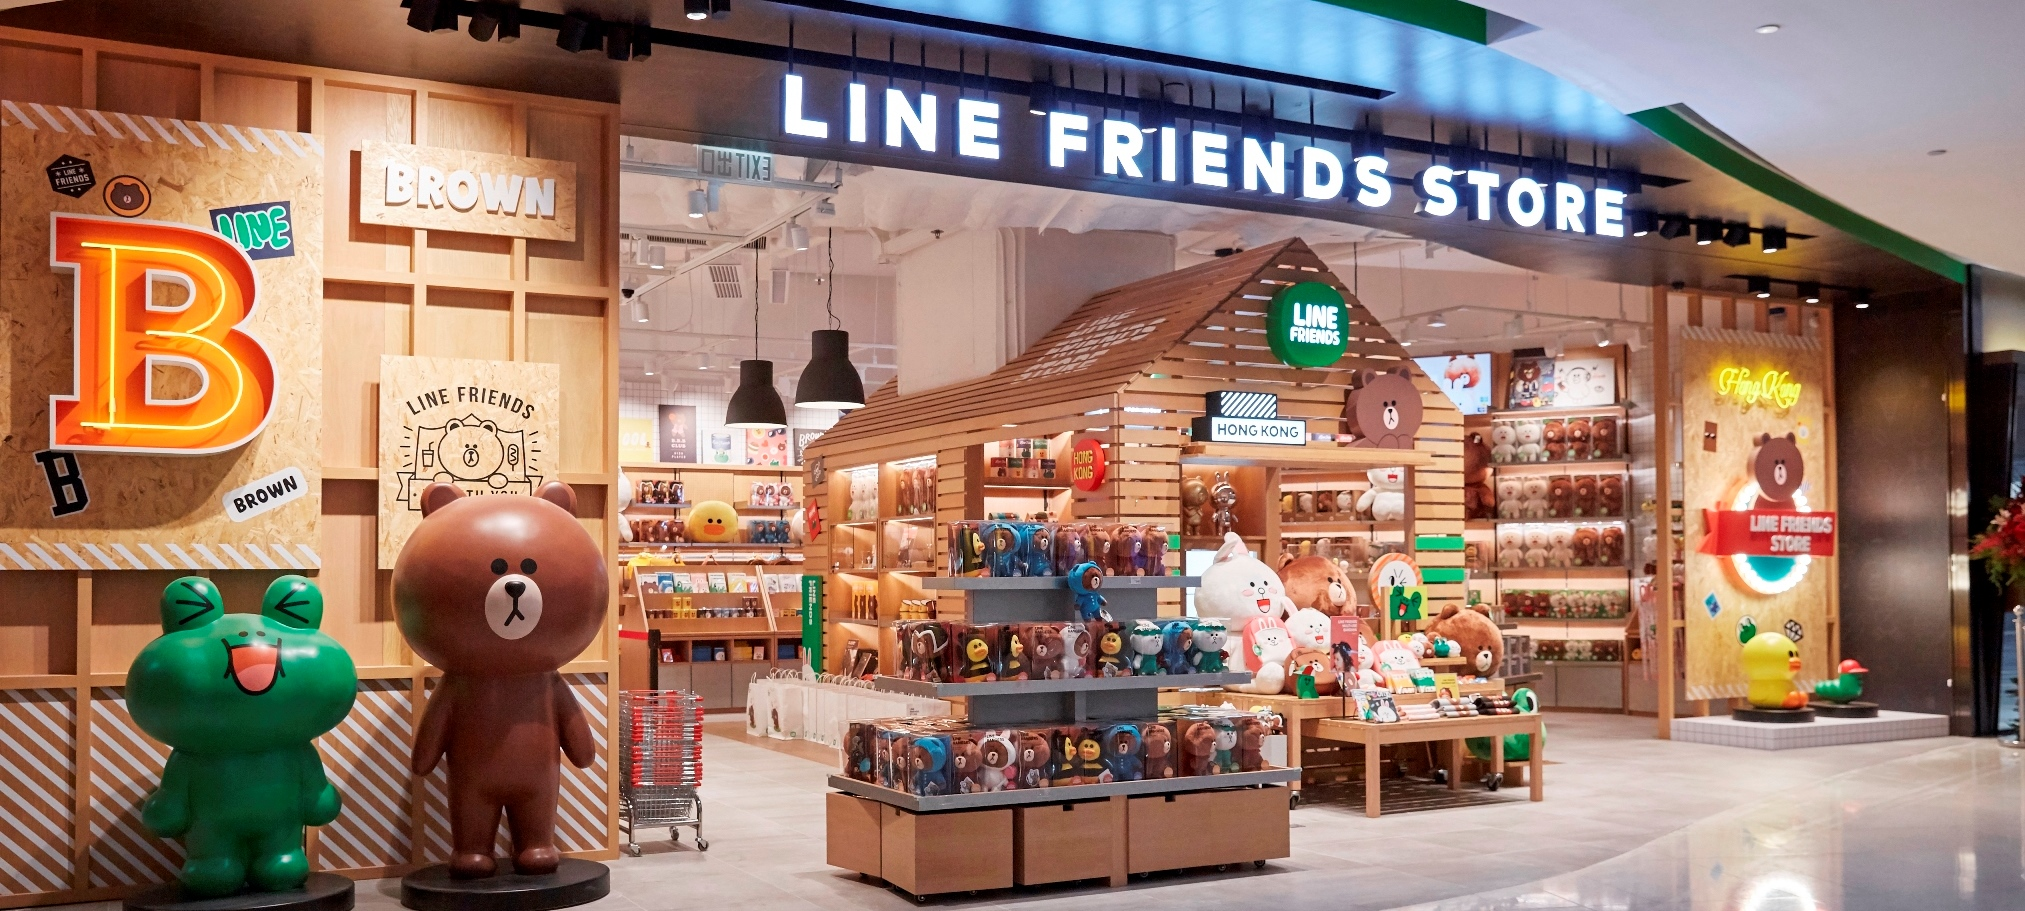line_brown: (385, 472, 632, 684), (1341, 354, 1437, 460)
